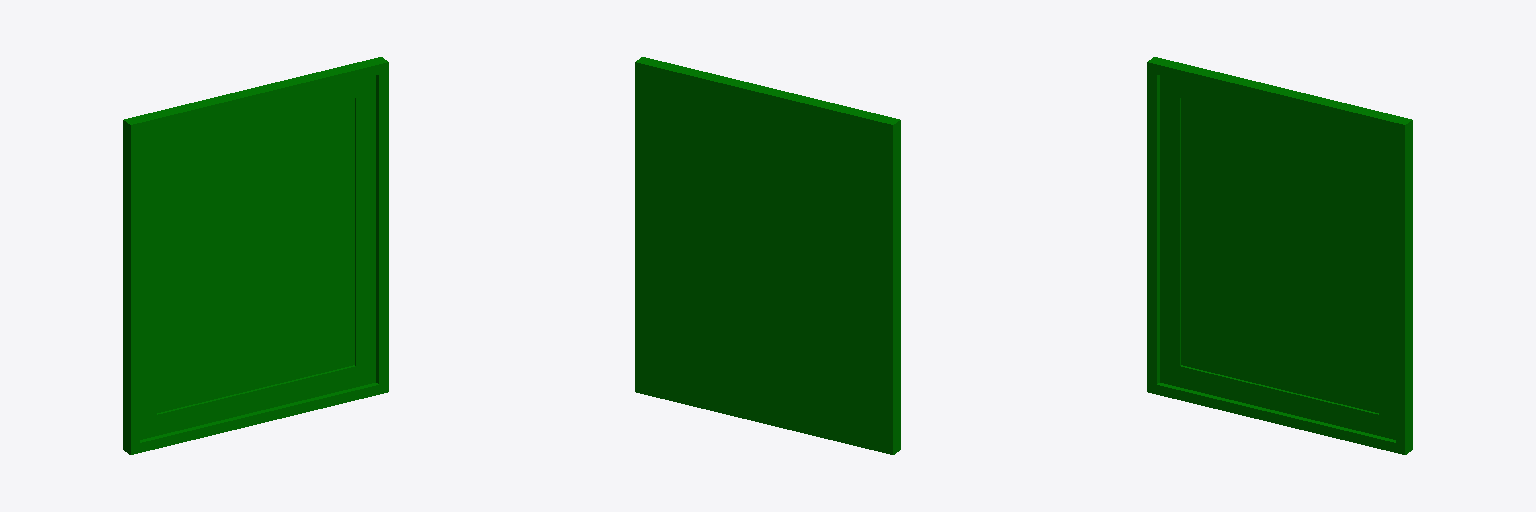
File: painting_face.obj
3 renders of one model, left to right at view 1: azimuth 30°, elevation 25°; view 2: azimuth 150°, elevation 25°; view 3: azimuth 330°, elevation 25°, orthographic.
Parts seen in each view (by area): view 1: Layer0_001; view 2: Layer0_001; view 3: Layer0_001.
Boxes of the visible parts, <box> form: Layer0_001: <box>123,57,388,454</box>; Layer0_001: <box>635,57,900,454</box>; Layer0_001: <box>1147,57,1412,454</box>.
Size of the model in its own units: 993 by 1213 by 50.